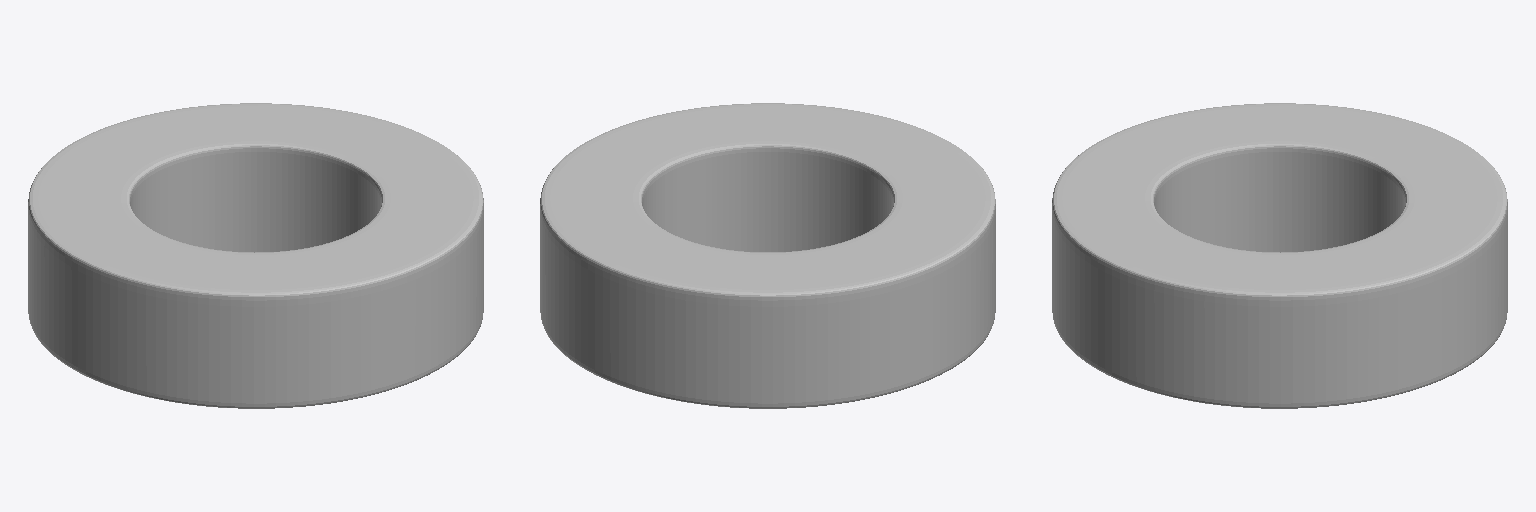
Rendered from ring1.obj.
3 views of the same model, side by side, from view 1: azimuth 30°, elevation 25°; view 2: azimuth 150°, elevation 25°; view 3: azimuth 270°, elevation 25° (orthographic).
Parts seen in each view (by area): view 1: Ring1_SmallRing; view 2: Ring1_SmallRing; view 3: Ring1_SmallRing.
Part boxes in pixels (left/top/right/bottom): Ring1_SmallRing: left=28, top=103, right=483, bottom=408; Ring1_SmallRing: left=540, top=103, right=995, bottom=408; Ring1_SmallRing: left=1052, top=103, right=1507, bottom=408.
Size of the model in its own units: 1.54 by 0.4296 by 1.54.